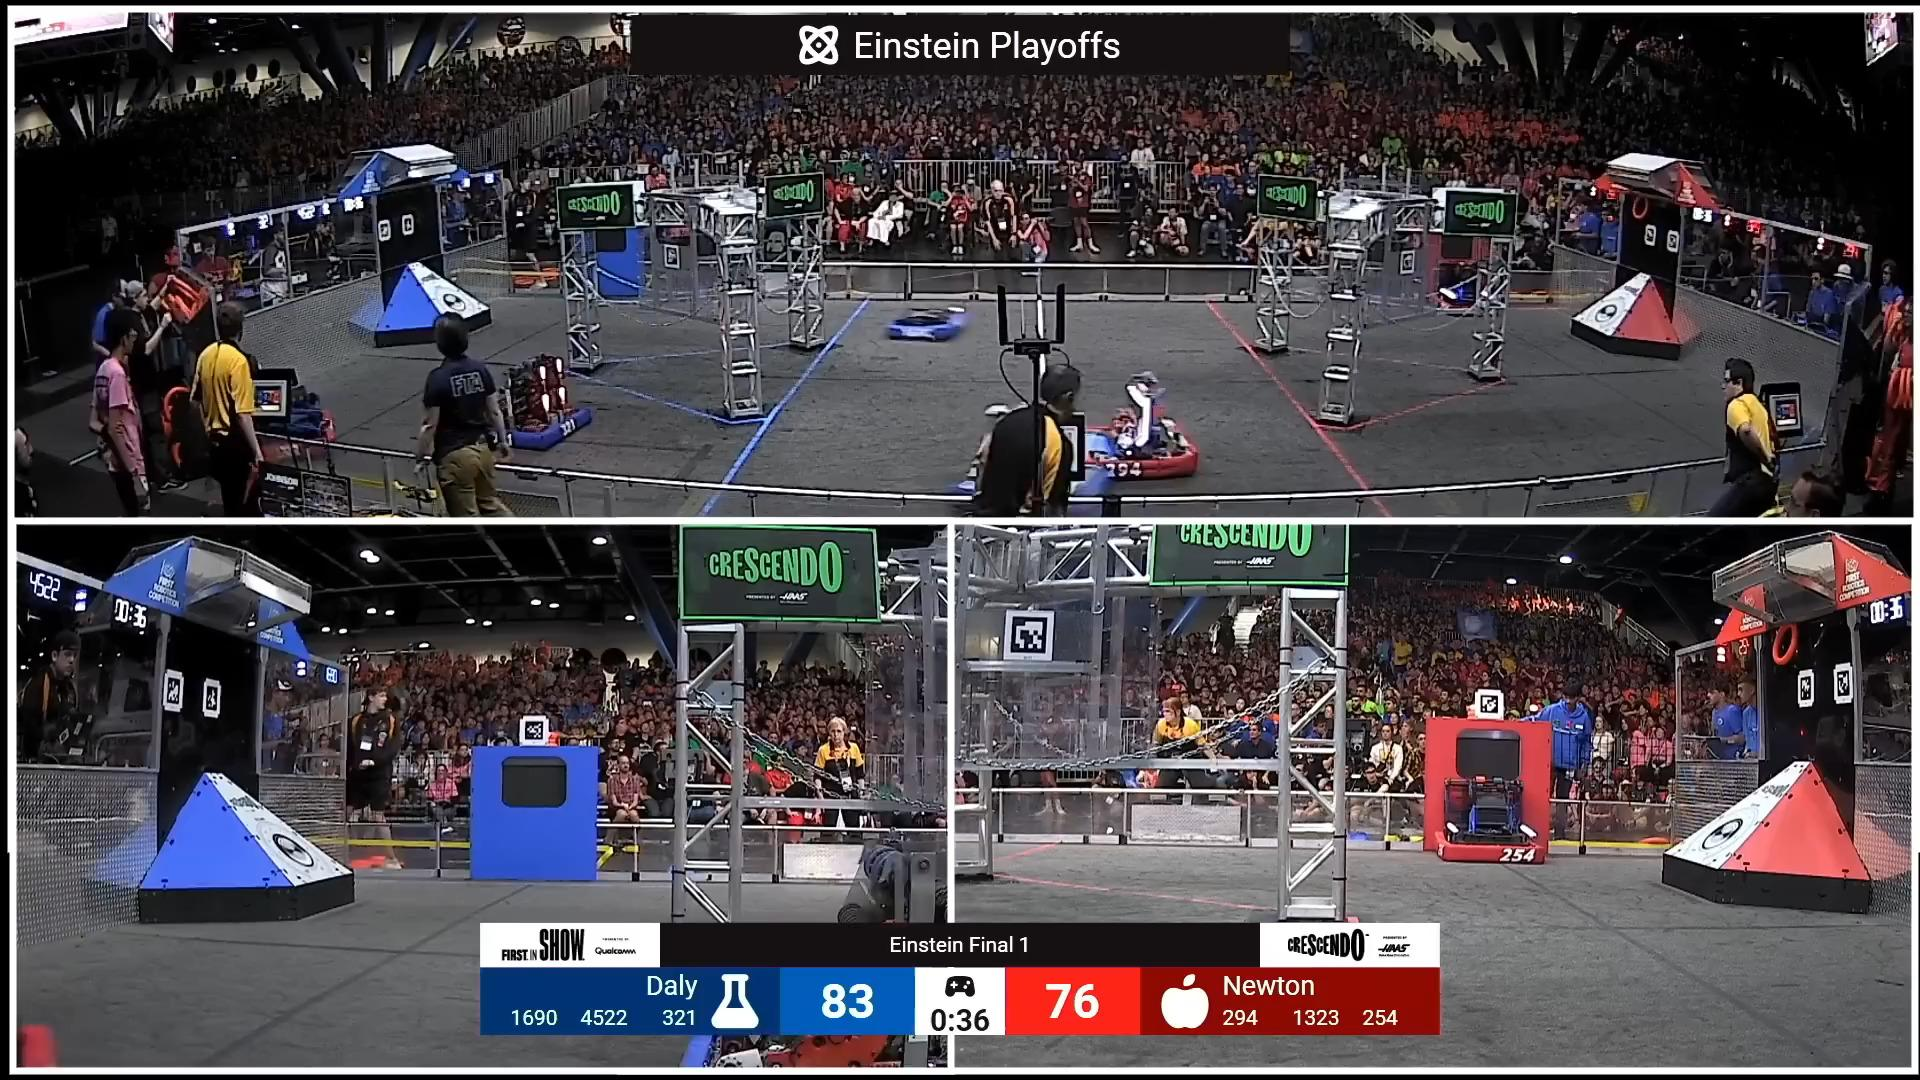red_amping: (1420, 717, 1564, 877)
